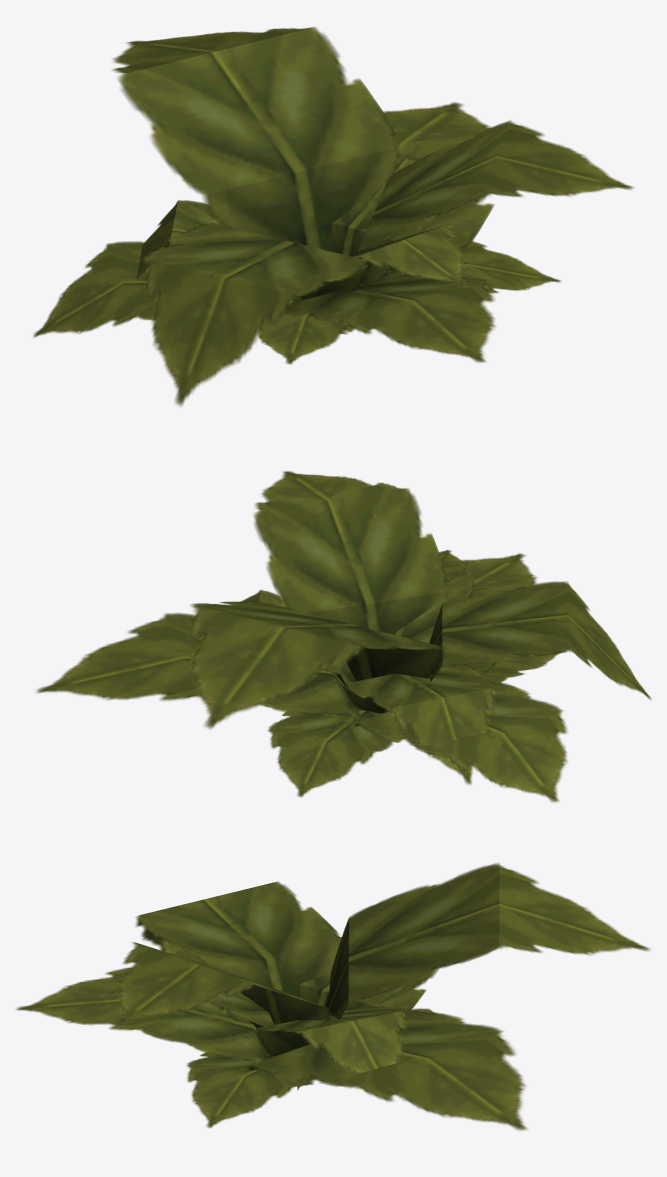
The model's file is lp_fern_a.glb.
The picture shows the model from 3 angles, top to bottom: view 1: azimuth 30°, elevation 25°; view 2: azimuth 150°, elevation 25°; view 3: azimuth 270°, elevation 25°; orthographic projection. The views are drawn at different scales.
Visible parts, largest first — view 1: lp_fern_a; view 2: lp_fern_a; view 3: lp_fern_a.
Part boxes in pixels (x1,y1,x2,y2): lp_fern_a: [33, 27, 634, 406]; lp_fern_a: [36, 471, 651, 802]; lp_fern_a: [15, 863, 650, 1130].
Bounding box in the file's own units: 1.15 × 0.3604 × 1.17.
Materials: 1 (1 with a texture image).
